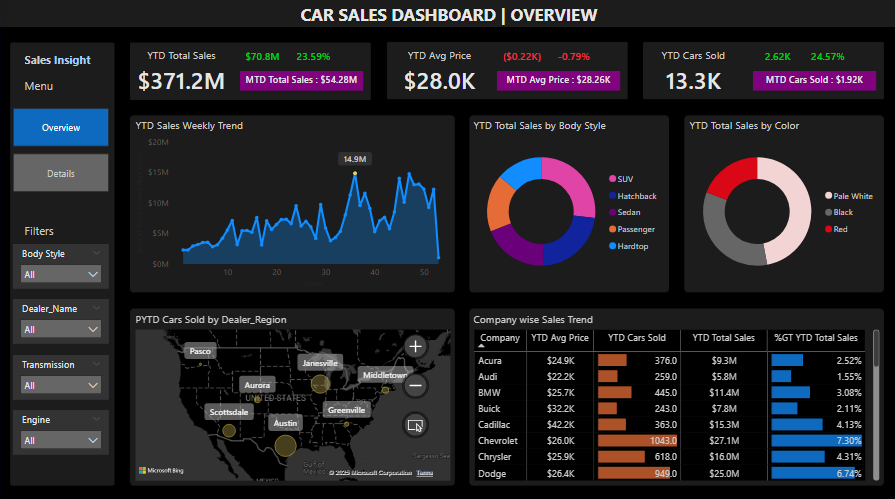

What the dashboard file says about the page in this screenshot:
{"tool":"powerbi","page":{"name":"Overview","canvas":[1280,720],"ordinal":0},"visuals":[{"type":"card","title":"YTD Total Sales","fields":{"Values":["car_data.YTD Total  Sales"]},"box":[190,70,141.1,71.1],"z":0},{"type":"card","fields":{"Values":["car_data.Sales Difference"]},"box":[344.4,70,64.4,26.7],"z":1000},{"type":"card","fields":{"Values":["car_data.YoY Sales Growth"]},"box":[416.7,70,64.4,26.7],"z":2000},{"type":"card","fields":{"Values":["car_data.MTD KPI"]},"box":[344.4,103.3,175.6,27.8],"z":3000},{"type":"card","fields":{"Values":["car_data.Avg Price Difference"]},"box":[711.1,70,71.1,26.7],"z":4000},{"type":"card","fields":{"Values":["car_data.YoY Price Growth"]},"box":[785.6,70,71.1,26.7],"z":5000},{"type":"card","fields":{"Values":["car_data.MTD Avg Price KPI"]},"box":[711.1,103.3,175.6,27.8],"z":6000},{"type":"card","title":"YTD Avg Price","fields":{"Values":["car_data.YTD Avg Price"]},"box":[558.9,70,141.1,71.1],"z":7000},{"type":"card","title":"YTD Cars Sold","fields":{"Values":["car_data.YTD Car Sold"]},"box":[921.1,70,141.1,71.1],"z":8000},{"type":"card","fields":{"Values":["car_data.Cars Sold Diff"]},"box":[1077.8,70,71.1,26.7],"z":9000},{"type":"card","fields":{"Values":["car_data.MTD Cars Sold KPI"]},"box":[1077.8,103.3,175.6,27.8],"z":10000},{"type":"card","fields":{"Values":["car_data.YoY Sold Growth"]},"box":[1148.9,70,71.1,26.7],"z":11000},{"type":"areaChart","title":"YTD Sales Weekly Trend","fields":{"Category":["Calender table.Week"],"Y":["Sum(car_data.Price ($))","car_data.Max Point"]},"box":[190,170,460,247.5],"z":12000},{"type":"donutChart","fields":{"Category":["car_data.Body Style"],"Y":["car_data.YTD Total  Sales"]},"box":[672.9,170,281.4,247.1],"z":13000},{"type":"donutChart","fields":{"Y":["car_data.YTD Total  Sales"],"Category":["car_data.Color"]},"box":[981.4,170,281.4,247.1],"z":14000},{"type":"map","fields":{"Category":["car_data.Dealer_Region"],"Size":["car_data.PYTD Cars Sold"]},"box":[190,447.1,460,245.7],"z":15000},{"type":"tableEx","title":"Company wise Sales Trend","fields":{"Values":["car_data.Company","car_data.YTD Avg Price","car_data.YTD Cars Sold","car_data.YTD Total  Sales1","car_data.YTD Total  Sales"]},"box":[672.9,447.1,590,245.7],"z":16000},{"type":"textbox","box":[425.7,0,448.6,47.1],"z":17000},{"type":"slicer","fields":{"Values":["car_data.Body Style"]},"box":[20,350,137.1,64.3],"z":18000},{"type":"slicer","fields":{"Values":["car_data.Dealer_Name"]},"box":[20,429,137.1,64.3],"z":19000},{"type":"slicer","fields":{"Values":["car_data.Transmission"]},"box":[20,508.1,137.1,64.3],"z":20000},{"type":"slicer","fields":{"Values":["car_data.Engine"]},"box":[20,587.1,137.1,64.3],"z":21000},{"type":"textbox","box":[31.4,315.7,125.7,34.3],"z":22000},{"type":"textbox","box":[31.4,71.4,125.7,34.3],"z":23000},{"type":"textbox","box":[31.4,108.6,125.7,34.3],"z":24000},{"type":"pageNavigator","box":[20,155.7,137.1,121.4],"z":25000}]}

Visuals, with their boxes in screenshot pixels (x1, y1, x2, y2), scaled from the page's 1280x720 canvas onto the 895x499 screenshot:
"YTD Total Sales" card: pyautogui.locateOnScreen(133, 49, 232, 98)
card - car_data.Sales Difference: pyautogui.locateOnScreen(241, 49, 286, 67)
card - car_data.YoY Sales Growth: pyautogui.locateOnScreen(291, 49, 336, 67)
card - car_data.MTD KPI: pyautogui.locateOnScreen(241, 72, 364, 91)
card - car_data.Avg Price Difference: pyautogui.locateOnScreen(497, 49, 547, 67)
card - car_data.YoY Price Growth: pyautogui.locateOnScreen(549, 49, 599, 67)
card - car_data.MTD Avg Price KPI: pyautogui.locateOnScreen(497, 72, 620, 91)
"YTD Avg Price" card: pyautogui.locateOnScreen(391, 49, 489, 98)
"YTD Cars Sold" card: pyautogui.locateOnScreen(644, 49, 743, 98)
card - car_data.Cars Sold Diff: pyautogui.locateOnScreen(754, 49, 803, 67)
card - car_data.MTD Cars Sold KPI: pyautogui.locateOnScreen(754, 72, 876, 91)
card - car_data.YoY Sold Growth: pyautogui.locateOnScreen(803, 49, 853, 67)
"YTD Sales Weekly Trend" areaChart: pyautogui.locateOnScreen(133, 118, 454, 289)
donutChart - car_data.Body Style x car_data.YTD Total  Sales: pyautogui.locateOnScreen(471, 118, 667, 289)
donutChart - car_data.YTD Total  Sales x car_data.Color: pyautogui.locateOnScreen(686, 118, 883, 289)
map - car_data.Dealer_Region x car_data.PYTD Cars Sold: pyautogui.locateOnScreen(133, 310, 454, 480)
"Company wise Sales Trend" tableEx: pyautogui.locateOnScreen(471, 310, 883, 480)
textbox: pyautogui.locateOnScreen(298, 0, 611, 33)
slicer - car_data.Body Style: pyautogui.locateOnScreen(14, 243, 110, 287)
slicer - car_data.Dealer_Name: pyautogui.locateOnScreen(14, 297, 110, 342)
slicer - car_data.Transmission: pyautogui.locateOnScreen(14, 352, 110, 397)
slicer - car_data.Engine: pyautogui.locateOnScreen(14, 407, 110, 451)
textbox: pyautogui.locateOnScreen(22, 219, 110, 243)
textbox: pyautogui.locateOnScreen(22, 49, 110, 73)
textbox: pyautogui.locateOnScreen(22, 75, 110, 99)
pageNavigator: pyautogui.locateOnScreen(14, 108, 110, 192)
